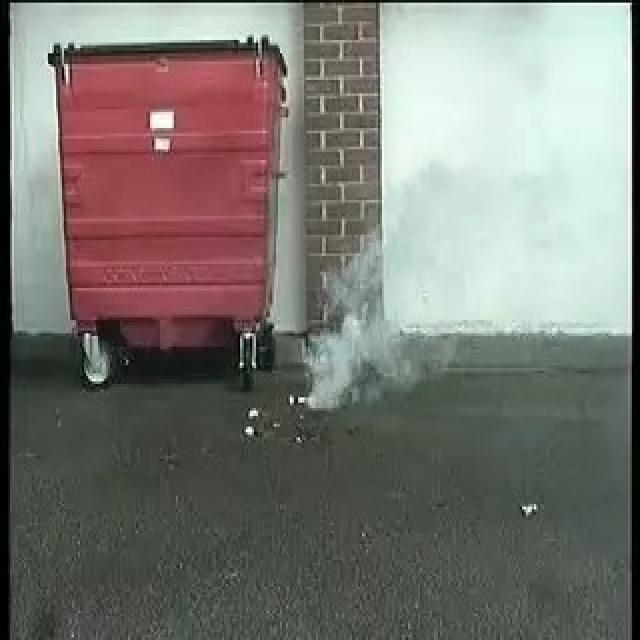smoke: (310, 248, 428, 406)
